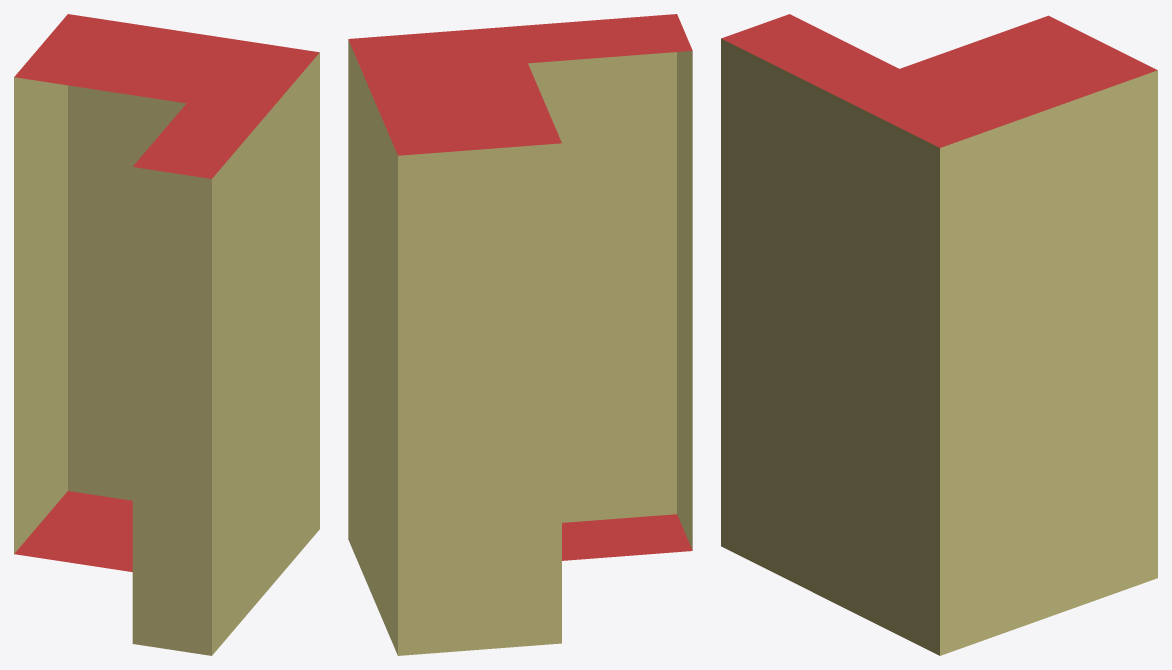
3 views of the same model, side by side, from view 1: azimuth 30°, elevation 25°; view 2: azimuth 150°, elevation 25°; view 3: azimuth 270°, elevation 25° (orthographic). The views are drawn at different scales.
Visible parts, largest first — view 1: group_4, group_3, group_5; view 2: group_4, group_3, group_5; view 3: group_4, group_3.
Part boxes in pixels (x1=…): group_4: x1=14, y1=52, x2=319, y2=655; group_3: x1=14, y1=14, x2=319, y2=178; group_5: x1=14, y1=491, x2=132, y2=571; group_4: x1=348, y1=40, x2=692, y2=655; group_3: x1=348, y1=14, x2=692, y2=155; group_5: x1=562, y1=514, x2=692, y2=560; group_4: x1=721, y1=38, x2=1157, y2=655; group_3: x1=721, y1=14, x2=1157, y2=147.
Size of the model in its own units: 5.84 by 8.04 by 10.32.
